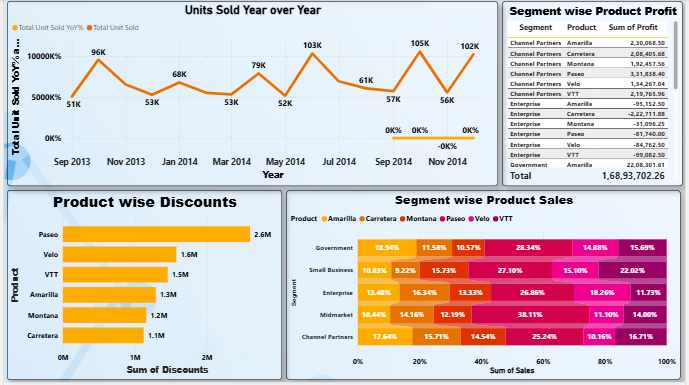

This screenshot's page, from the dashboard's own definition file:
{"tool":"powerbi","page":{"name":"Dashboard 3","canvas":[1280,720],"ordinal":2},"visuals":[{"type":"lineChart","title":"Units Sold Year over Year","fields":{"Category":["Clean Financial Data.Date.Variation.Date Hierarchy.Year","Clean Financial Data.Date.Variation.Date Hierarchy.Month"],"Y":["Clean Financial Data.Total Unit Sold YoY%","Clean Financial Data.Total Unit Sold"]},"box":[5.6,3.8,922.9,347.7],"z":0},{"type":"hundredPercentStackedBarChart","title":"Segment wise Product Sales","fields":{"Category":["financials.Segment"],"Y":["Sum(financials.Sales)"],"Series":["financials.Product"]},"box":[530,359,742.4,357.1],"z":1000},{"type":"tableEx","title":"Segment wise Product Profit","fields":{"Values":["financials.Segment","financials.Product","Sum(financials.Profit)"]},"box":[936,3.8,340.2,347.7],"z":2000},{"type":"barChart","title":"Product wise Discounts","fields":{"Category":["financials.Product"],"Y":["Sum(financials.Discounts)"]},"box":[5.6,359,516.9,357.1],"z":3000}]}

Visuals, with their boxes in screenshot pixels (x1, y1, x2, y2), scaled from the page's 1280x720 canvas onto the 689x385 screenshot:
"Units Sold Year over Year" lineChart: box(3, 2, 500, 188)
"Segment wise Product Sales" hundredPercentStackedBarChart: box(285, 192, 685, 383)
"Segment wise Product Profit" tableEx: box(504, 2, 687, 188)
"Product wise Discounts" barChart: box(3, 192, 281, 383)
